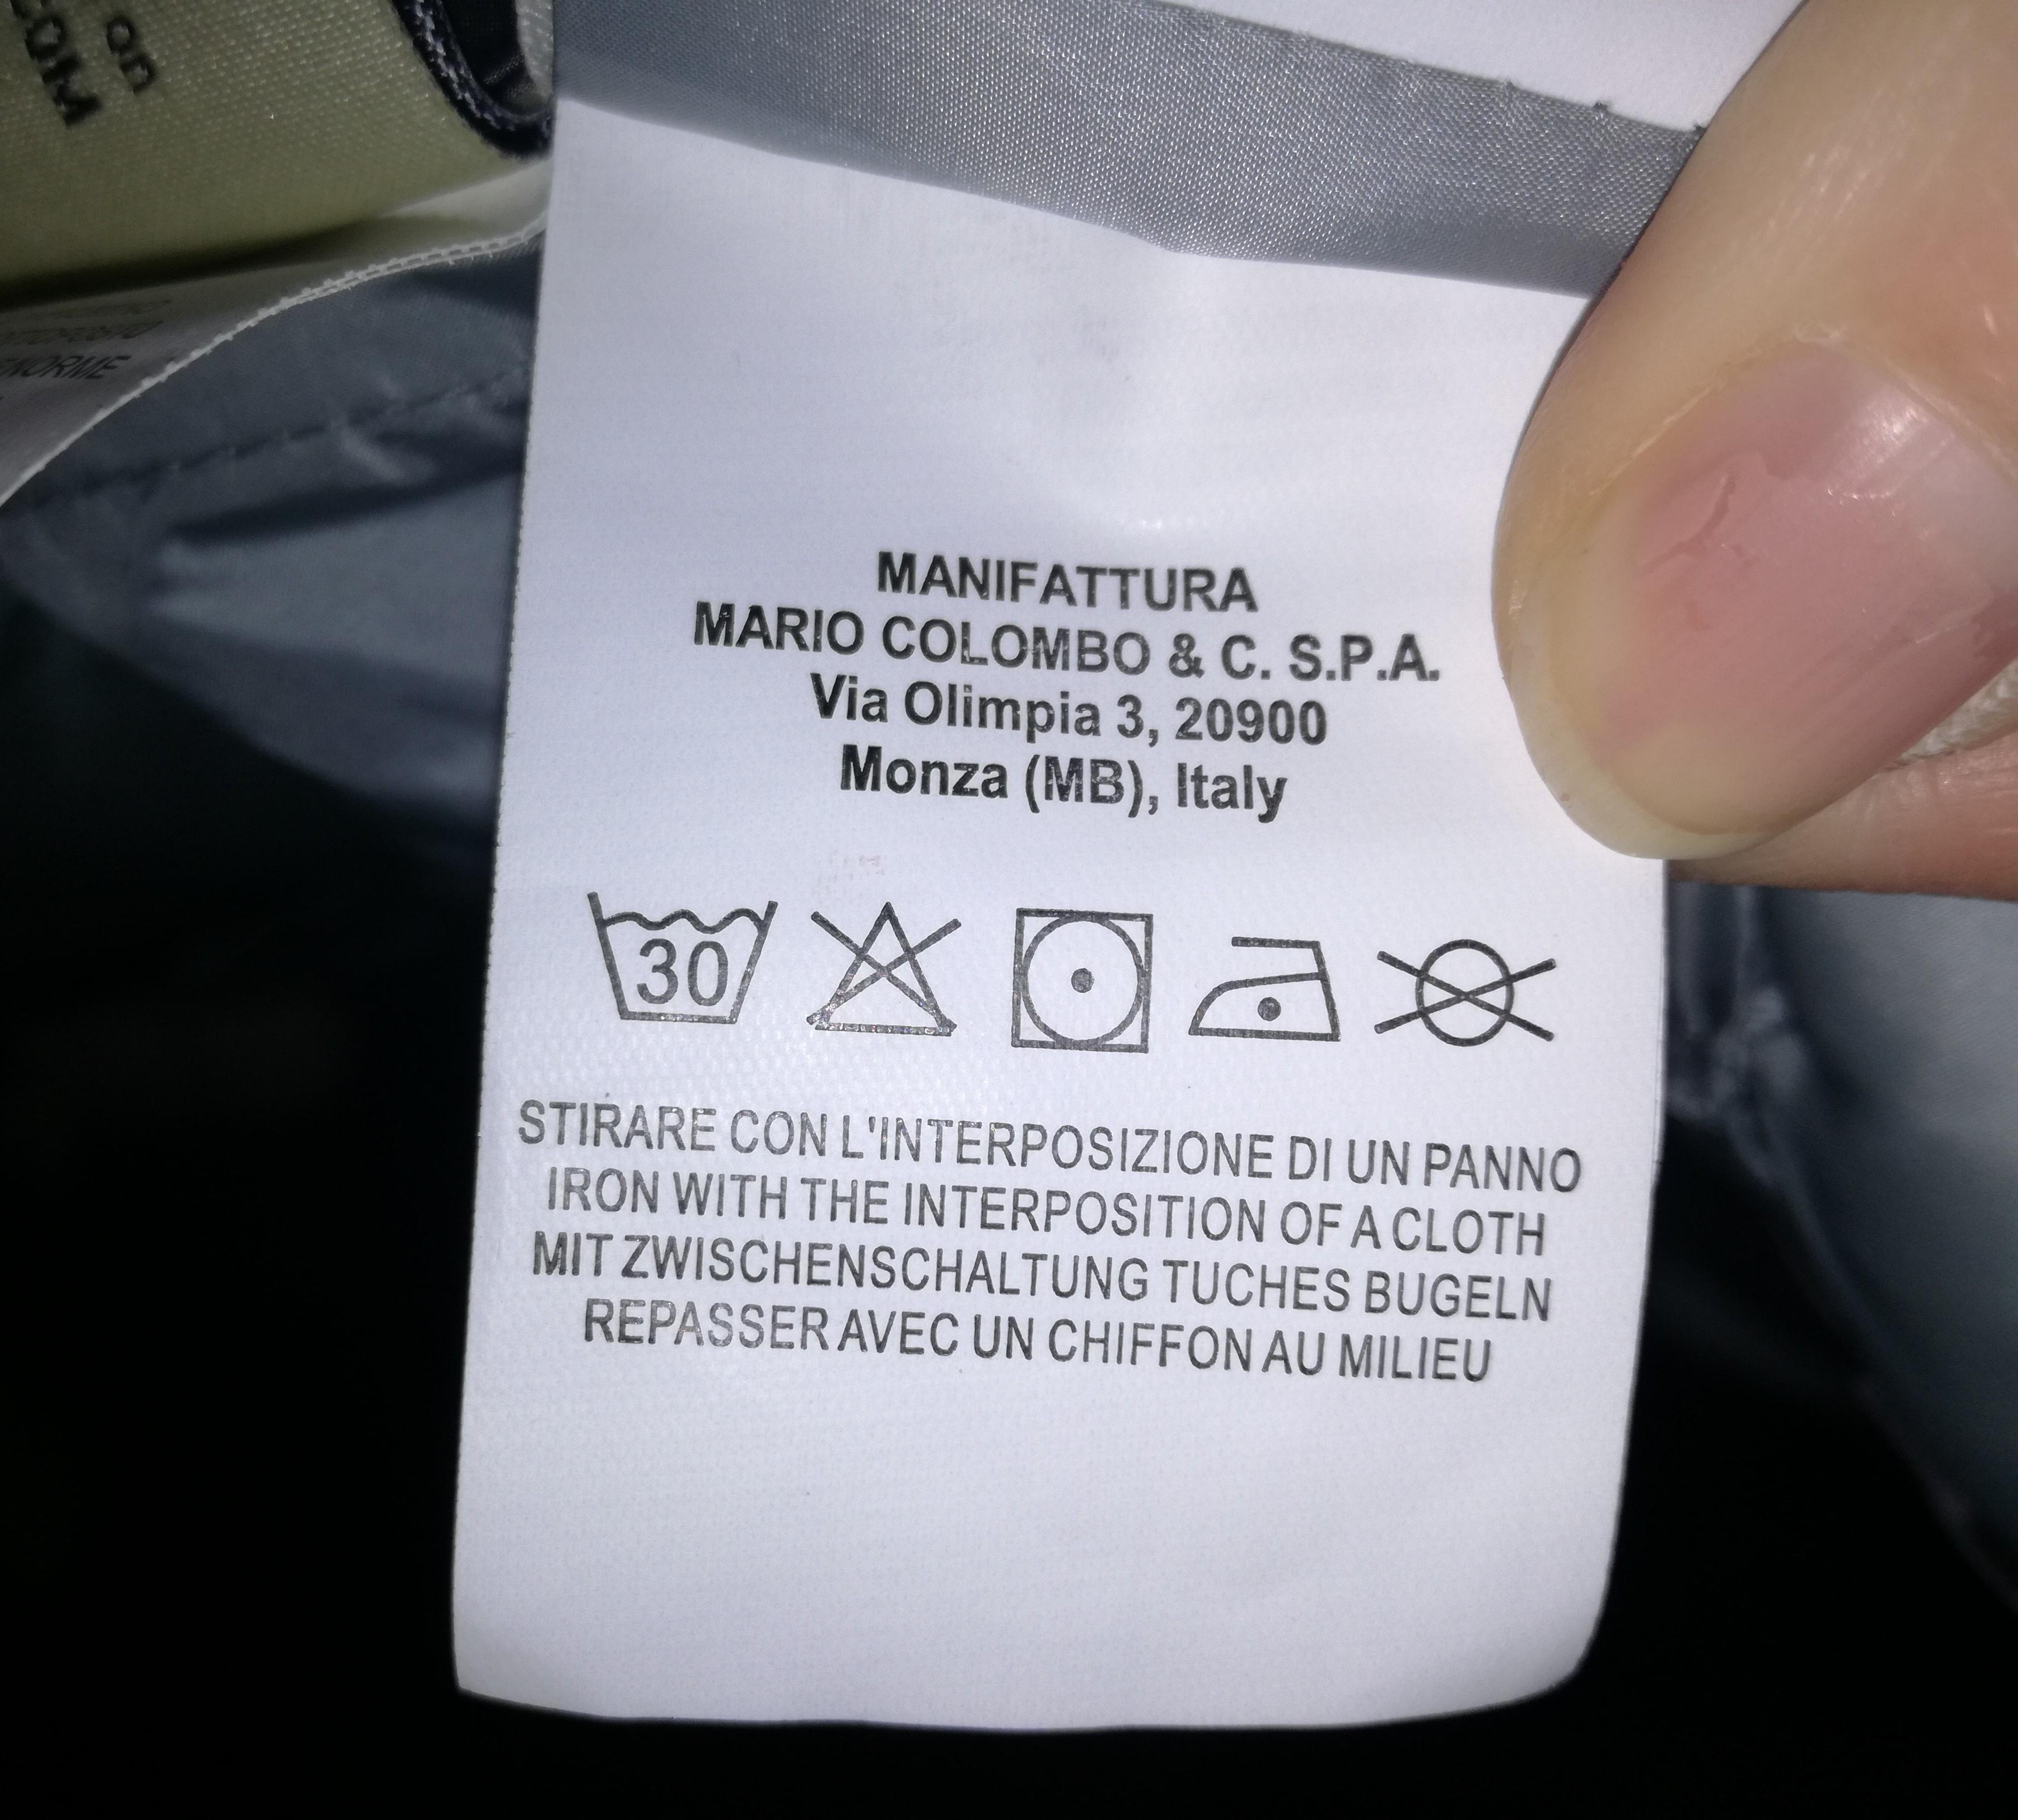30C: (583, 877, 792, 1044)
DN_bleach: (806, 905, 969, 1040)
DN_dry_clean: (1368, 931, 1575, 1061)
iron_low: (1180, 928, 1352, 1058)
tumble_dry_low: (1012, 899, 1163, 1061)
